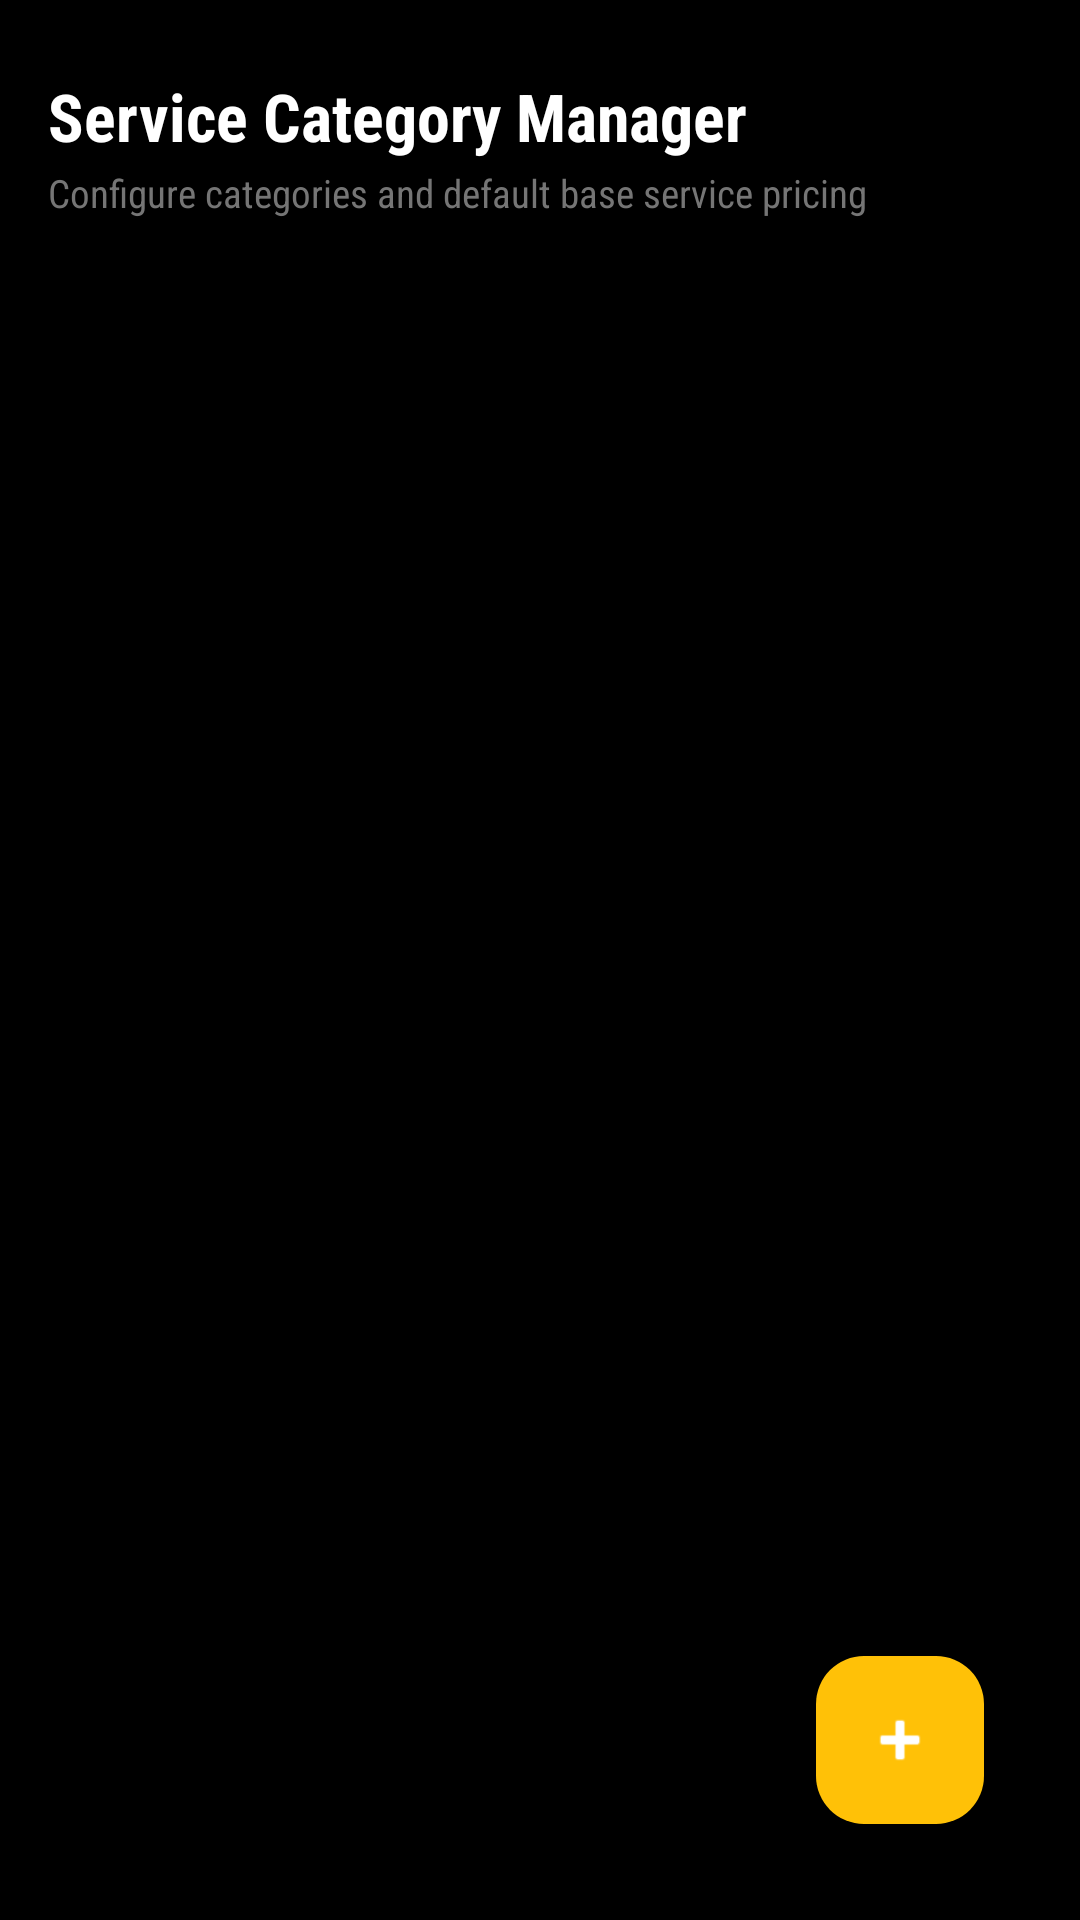

Icons on this 1080x1920 Android screen, each with its box as (x1, y1, x2, y2):
Add Category: (816, 1656, 984, 1824)
